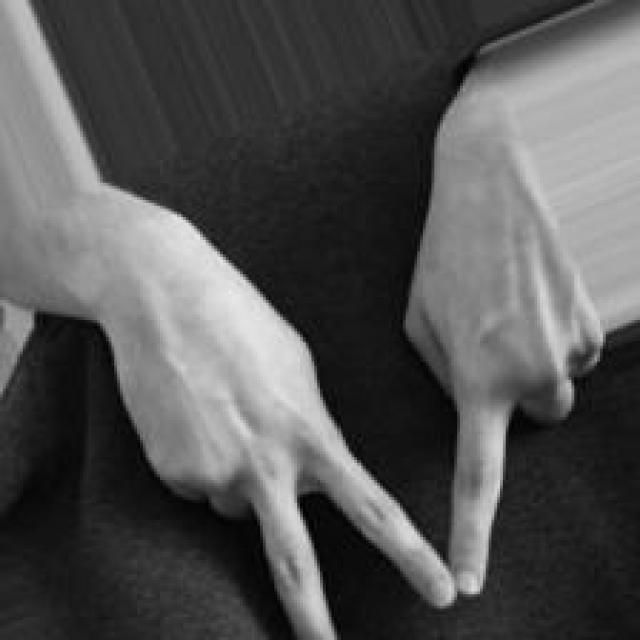N: (111, 192, 602, 640)
